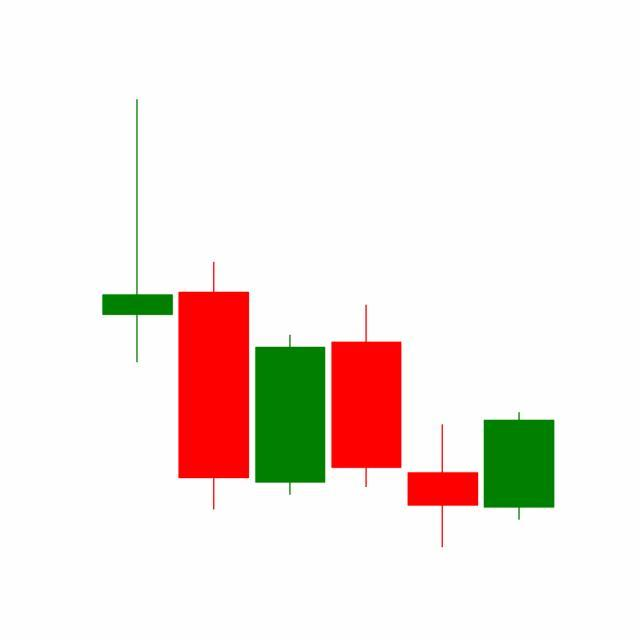Morning Star: (326, 301, 555, 548)
